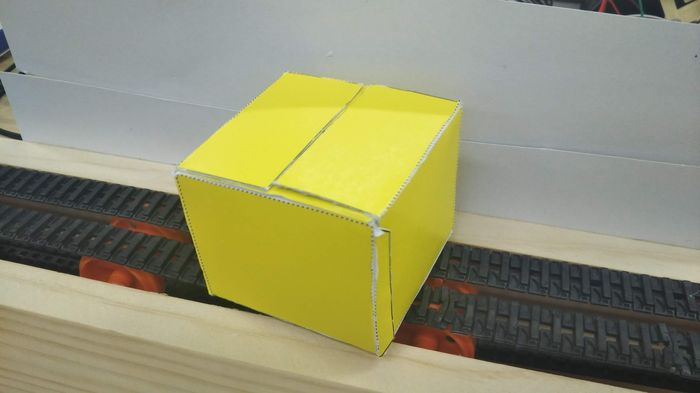box4: (172, 67, 463, 361)
